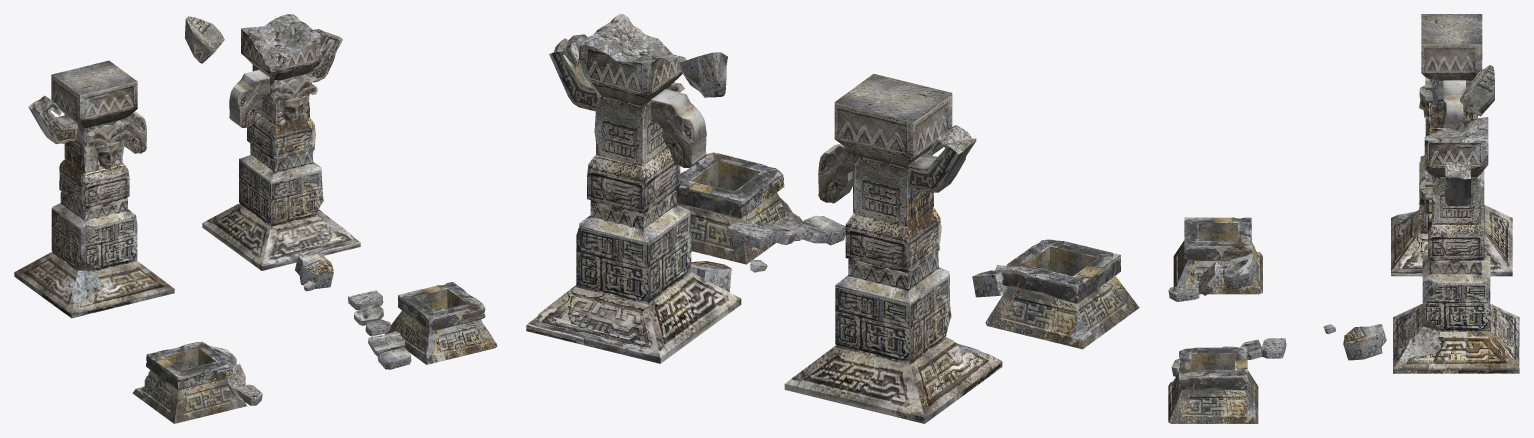
Rendered from Temple.FBX.
3 renders of one model, left to right at view 1: azimuth 30°, elevation 25°; view 2: azimuth 150°, elevation 25°; view 3: azimuth 270°, elevation 25°, orthographic. The views are drawn at different scales.
Visible parts, largest first — view 1: Temple; view 2: Temple; view 3: Temple.
Part boxes in pixels (left/top/right/bottom): Temple: left=14, top=14, right=497, bottom=423; Temple: left=526, top=14, right=1139, bottom=423; Temple: left=1168, top=14, right=1519, bottom=423.
Bounding box in the file's own units: 62.94 × 54.57 × 47.06.
